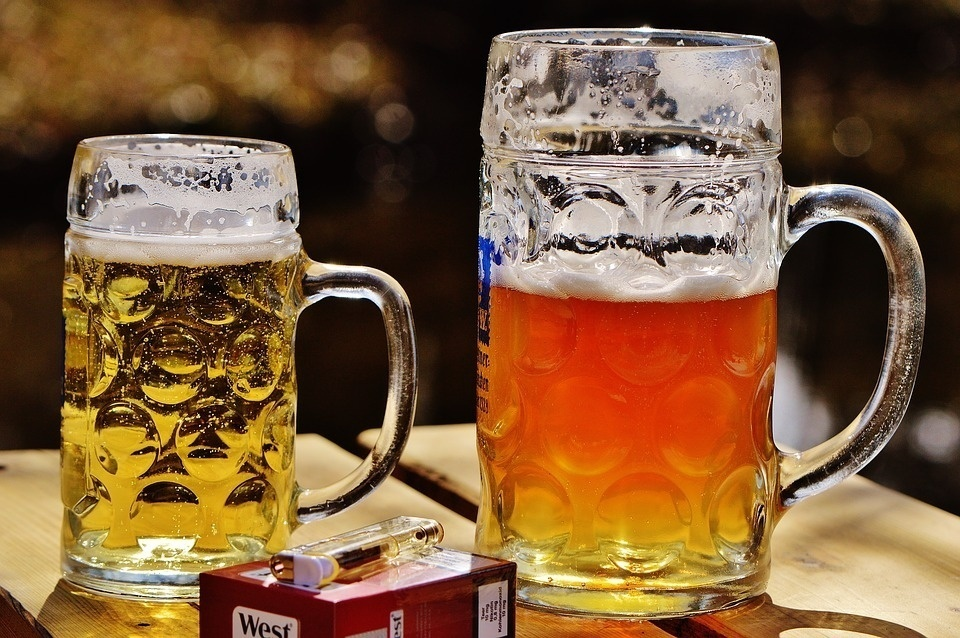whiskey: (475, 35, 793, 625), (45, 133, 310, 585)
